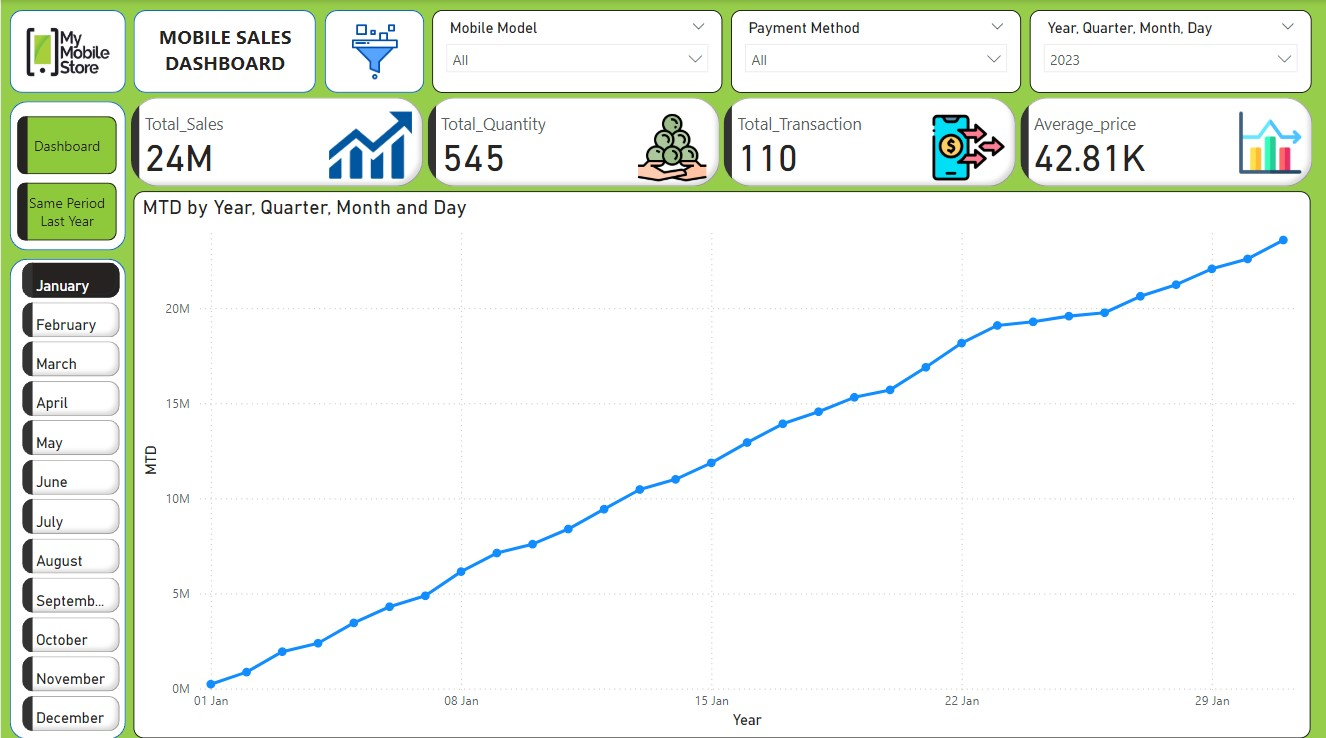

This screenshot's page, from the dashboard's own definition file:
{"tool":"powerbi","page":{"name":"MTD Report","canvas":[1280,720],"ordinal":1},"visuals":[{"type":"shape","box":[8.5,9.6,112,80],"z":0},{"type":"image","box":[16.5,1.6,96,96],"z":1000},{"type":"shape","box":[8.5,97.6,112,144],"z":2000},{"type":"cardVisual","fields":{"Data":["Mobile_Sales_Data.Total_Sales","Mobile_Sales_Data.Total_Quantity","Mobile_Sales_Data.Total_Transaction","Mobile_Sales_Data.Average_price"]},"box":[120.5,89.6,1152,96],"z":3000},{"type":"slicer","fields":{"Values":["Mobile_Sales_Data.Mobile Model"]},"box":[416.5,9.6,280,80],"z":4000},{"type":"slicer","fields":{"Values":["Mobile_Sales_Data.Payment Method"]},"box":[704.5,9.6,280,80],"z":5000},{"type":"slicer","fields":{"Values":["Custom_Calender.Date.Variation.Date Hierarchy.Year","Custom_Calender.Date.Variation.Date Hierarchy.Quarter","Custom_Calender.Date.Variation.Date Hierarchy.Month","Custom_Calender.Date.Variation.Date Hierarchy.Day"]},"box":[992.5,9.6,272,80],"z":6000},{"type":"shape","box":[312.5,9.6,96,80],"z":7000},{"type":"shape","box":[128.5,9.6,176,80],"z":8000},{"type":"image","box":[296.5,17.6,128,64],"z":9000},{"type":"textbox","box":[136.5,17.6,160,64],"z":10000},{"type":"lineChart","fields":{"Category":["Custom_Calender.Date.Variation.Date Hierarchy.Year","Custom_Calender.Date.Variation.Date Hierarchy.Quarter","Custom_Calender.Date.Variation.Date Hierarchy.Month","Custom_Calender.Date.Variation.Date Hierarchy.Day"],"Y":["Mobile_Sales_Data.MTD"]},"box":[128,184,1136,528],"z":11000},{"type":"shape","box":[8.5,249.6,112,464],"z":12000},{"type":"advancedSlicerVisual","fields":{"Values":["Custom_Calender.Date.Variation.Date Hierarchy.Month"]},"box":[16,248,104,464],"z":13000},{"type":"pageNavigator","box":[16,112,96,120],"z":14000}]}

Visuals, with their boxes in screenshot pixels (x1, y1, x2, y2), scaled from the page's 1280x720 canvas onto the 1326x738 screenshot:
shape: pyautogui.locateOnScreen(9, 10, 125, 92)
image: pyautogui.locateOnScreen(17, 2, 117, 100)
shape: pyautogui.locateOnScreen(9, 100, 125, 248)
cardVisual - Mobile_Sales_Data.Total_Sales x Mobile_Sales_Data.Total_Quantity: pyautogui.locateOnScreen(125, 92, 1318, 190)
slicer - Mobile_Sales_Data.Mobile Model: pyautogui.locateOnScreen(431, 10, 722, 92)
slicer - Mobile_Sales_Data.Payment Method: pyautogui.locateOnScreen(730, 10, 1020, 92)
slicer - Custom_Calender.Date.Variation.Date Hierarchy.Year x Custom_Calender.Date.Variation.Date Hierarchy.Quarter: pyautogui.locateOnScreen(1028, 10, 1310, 92)
shape: pyautogui.locateOnScreen(324, 10, 423, 92)
shape: pyautogui.locateOnScreen(133, 10, 315, 92)
image: pyautogui.locateOnScreen(307, 18, 440, 84)
textbox: pyautogui.locateOnScreen(141, 18, 307, 84)
lineChart - Custom_Calender.Date.Variation.Date Hierarchy.Year x Custom_Calender.Date.Variation.Date Hierarchy.Quarter: pyautogui.locateOnScreen(133, 189, 1309, 730)
shape: pyautogui.locateOnScreen(9, 256, 125, 731)
advancedSlicerVisual - Custom_Calender.Date.Variation.Date Hierarchy.Month: pyautogui.locateOnScreen(17, 254, 124, 730)
pageNavigator: pyautogui.locateOnScreen(17, 115, 116, 238)
